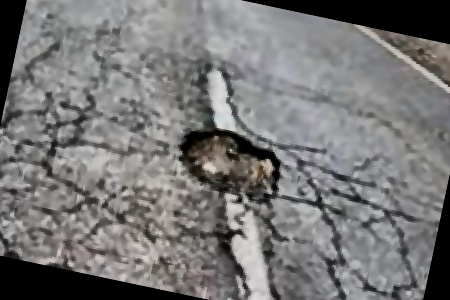pothole: (170, 119, 291, 208)
